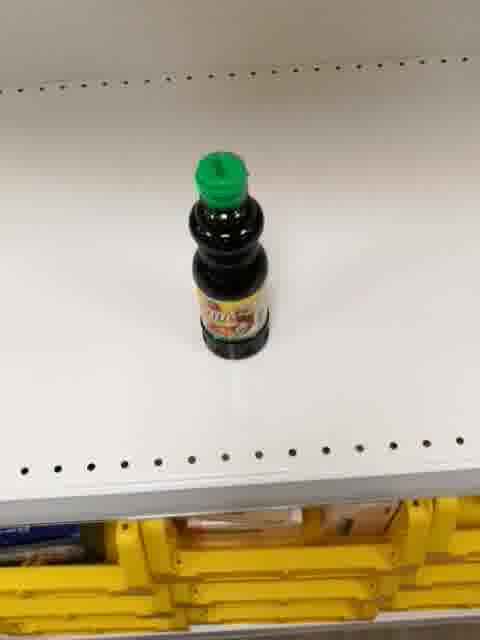cookingoil: (186, 150, 272, 362)
